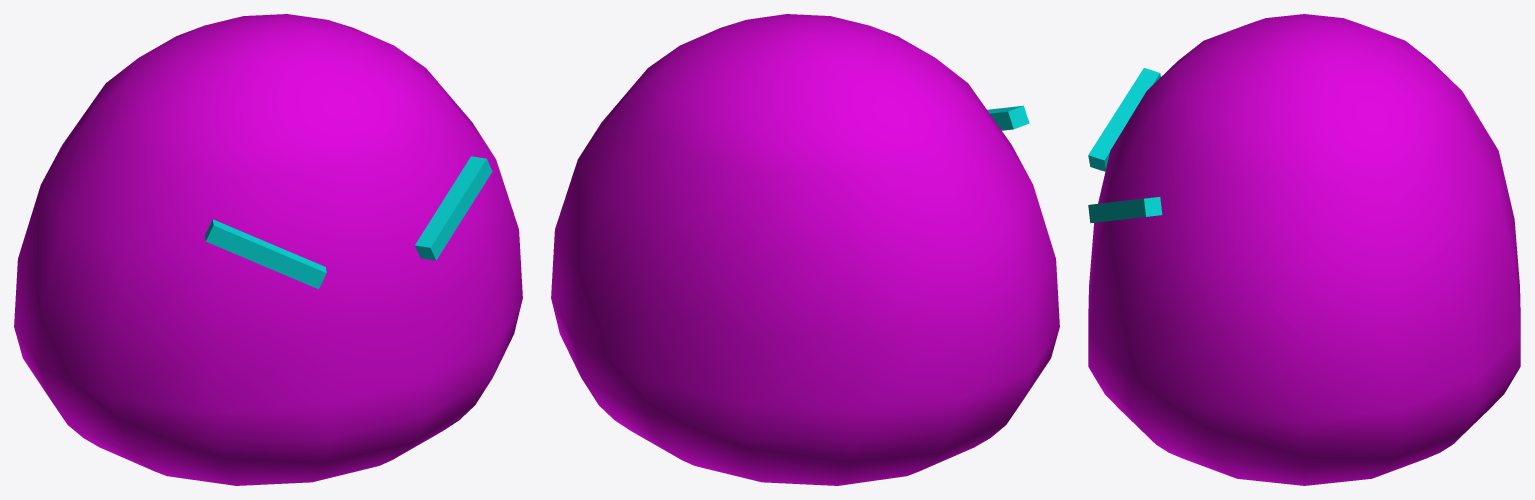
The model's file is gritsModel.fbx.
3 renders of one model, left to right at view 1: azimuth 30°, elevation 25°; view 2: azimuth 150°, elevation 25°; view 3: azimuth 270°, elevation 25°, orthographic.
Visible parts, largest first — view 1: gritsBlob; view 2: gritsBlob; view 3: gritsBlob.
Boxes of the visible parts, x1=… form: gritsBlob: x1=14, y1=14, x2=522, y2=485; gritsBlob: x1=551, y1=14, x2=1059, y2=485; gritsBlob: x1=1088, y1=14, x2=1520, y2=485.
Bounding box in the file's own units: 250 × 211 × 209.
